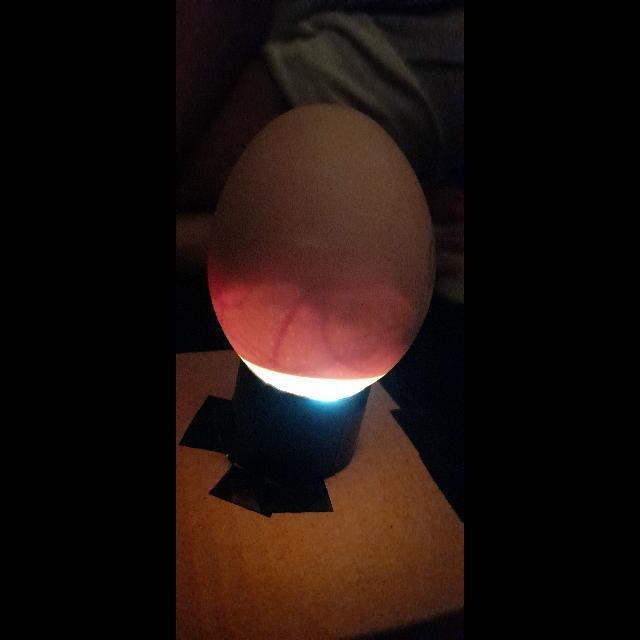Fertile: (207, 96, 435, 412)
